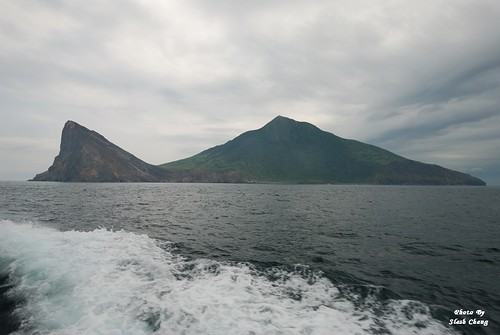turtleIslandLeft: (34, 100, 487, 194)
